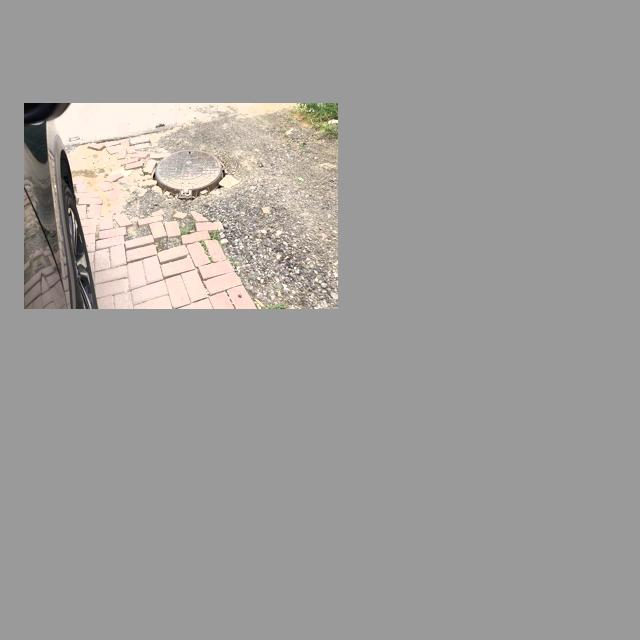circle: (128, 135, 246, 217)
